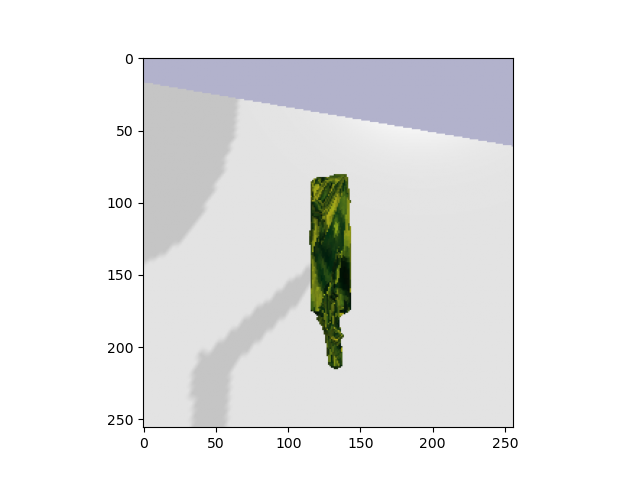v249b387_108: (302, 169, 361, 380)
